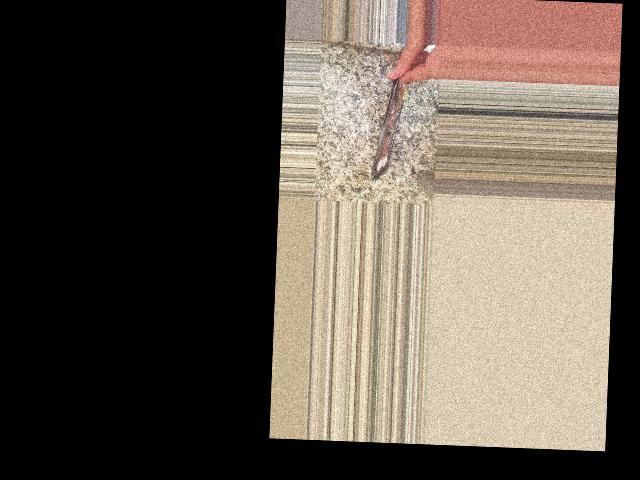chocolate: (364, 64, 415, 182)
